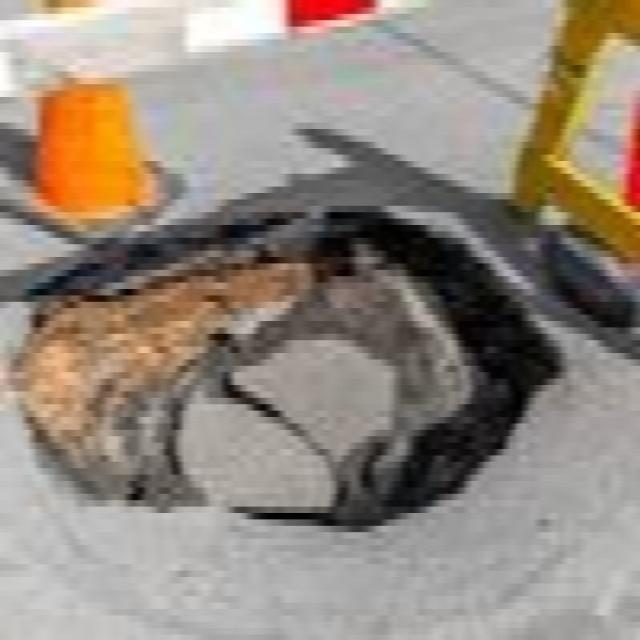Pothole: (12, 199, 572, 540)
